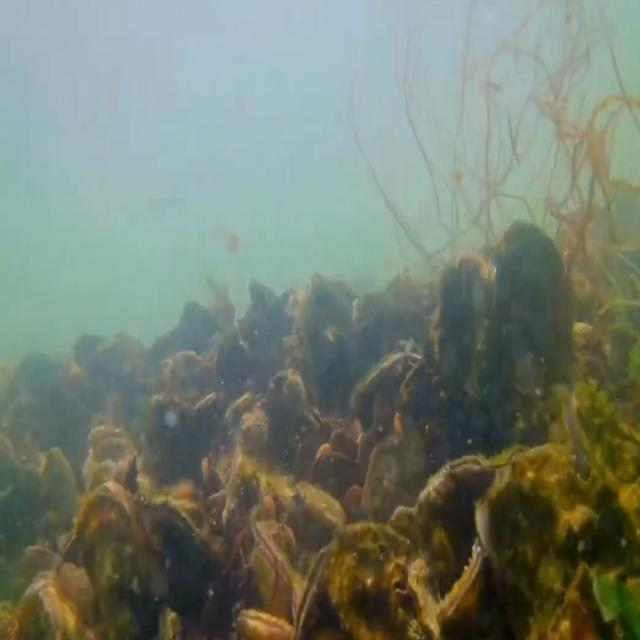Oyster-Closed: (385, 440, 531, 625), (296, 521, 437, 640), (141, 495, 228, 610), (250, 515, 302, 588), (238, 605, 294, 640)
Oyster-Indeterminate: (473, 443, 640, 640), (492, 216, 575, 406), (73, 479, 152, 640), (436, 253, 496, 413), (359, 430, 422, 530), (36, 443, 79, 544), (296, 479, 348, 530)
Oyster-Open: (349, 345, 430, 433)
